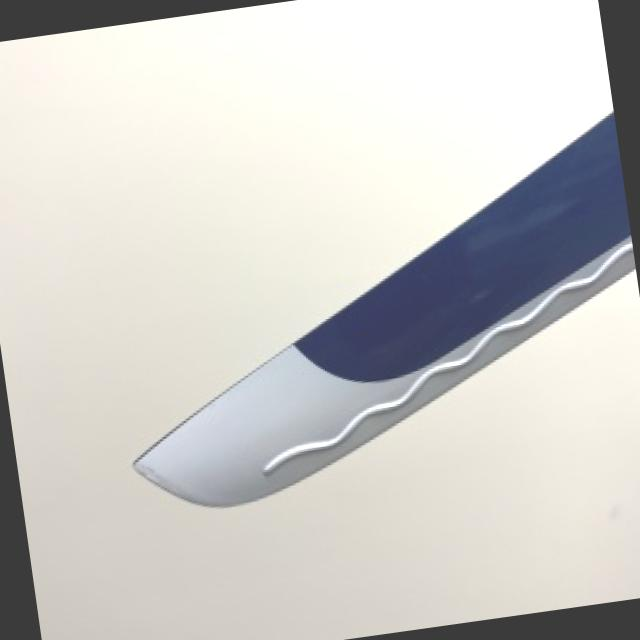healthy: (133, 111, 634, 503)
